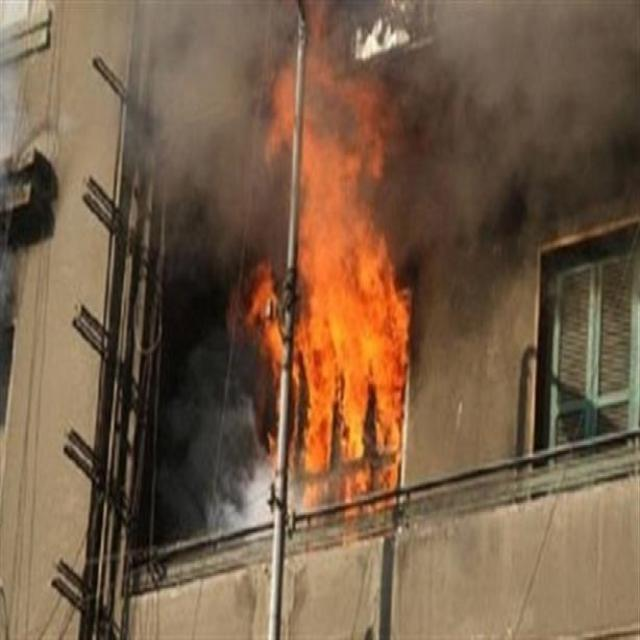fire: (233, 57, 424, 525)
